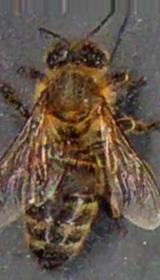varroa_mite: (24, 148, 46, 180)
